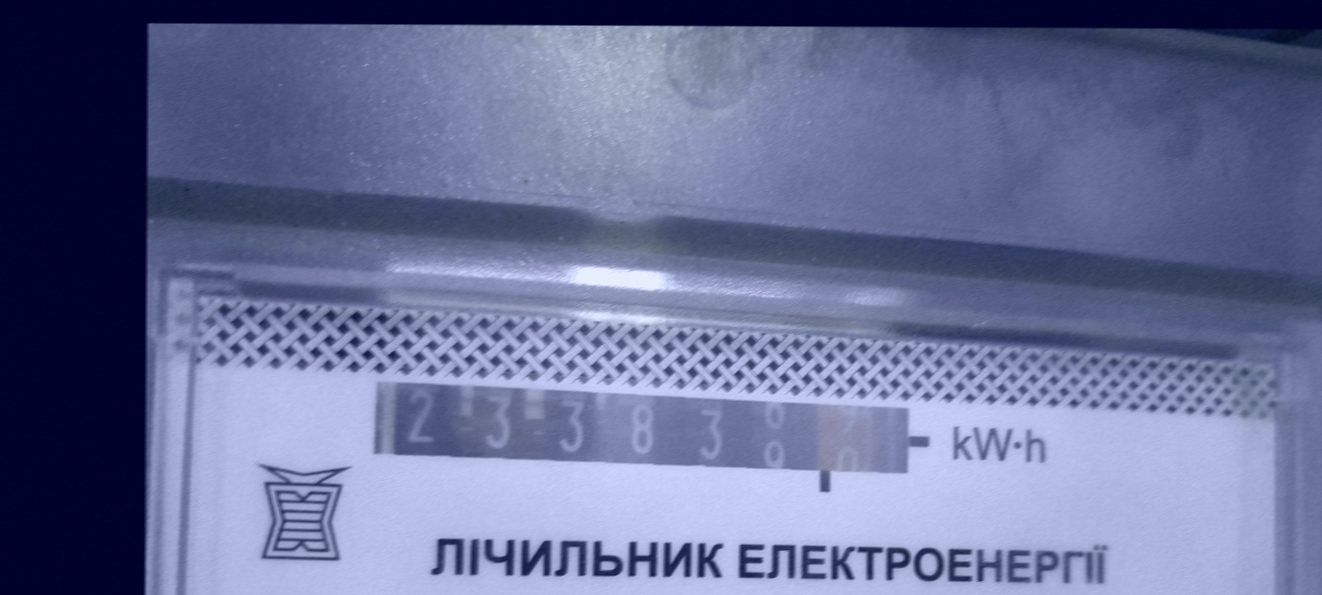0: (833, 443, 859, 477)
2: (401, 385, 440, 445)
3: (552, 393, 588, 456), (696, 403, 725, 460), (483, 391, 511, 449)
8: (624, 398, 658, 456), (761, 397, 788, 429)
9: (831, 399, 862, 438), (760, 435, 788, 472)
screen: (344, 358, 937, 518)
